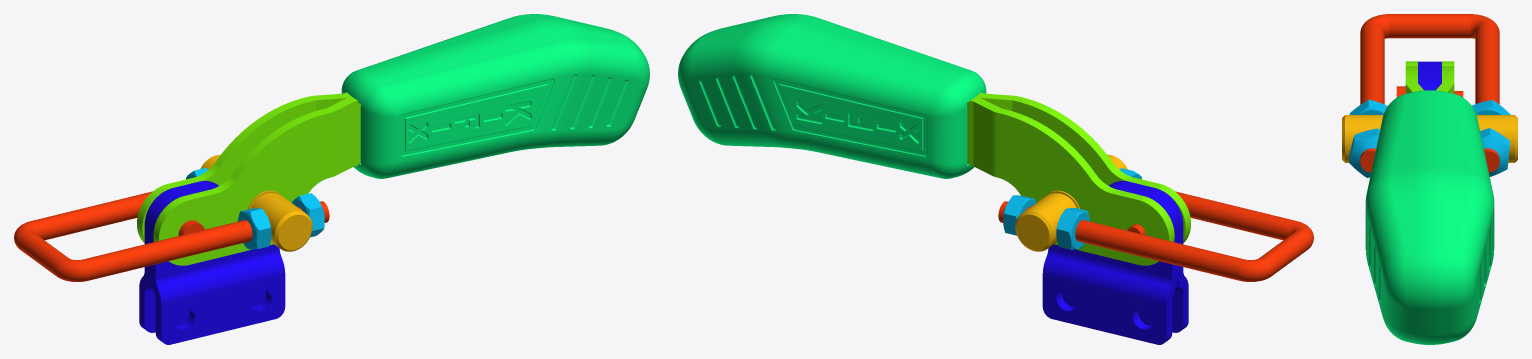
File: Peca.fbx
3 views of the same model, side by side, from view 1: azimuth 30°, elevation 25°; view 2: azimuth 150°, elevation 25°; view 3: azimuth 270°, elevation 25° (orthographic). The views are drawn at different scales.
Visible parts, largest first — view 1: 07.60005_12_high, 01.10079_Esquerda_4_high, 02.11063_Direita_1_high, 03.20036_7_high, 01.10079_Direita_3_high, 16.20052_6_high, 02.11063_Esquerda_2_high, 11.50007_8_high, 11.50022_9_high; view 2: 07.60005_12_high, 01.10079_Direita_3_high, 02.11063_Esquerda_2_high, 03.20036_7_high, 01.10079_Esquerda_4_high, 16.20052_6_high, 02.11063_Direita_1_high, 11.50007_10_high, 11.50022_11_high; view 3: 07.60005_12_high, 03.20036_7_high, 16.20052_6_high, 11.50022_9_high, 11.50022_11_high, 01.10079_Direita_3_high, 01.10079_Esquerda_4_high, 11.50007_8_high, 11.50007_10_high, 02.11063_Direita_1_high, 02.11063_Esquerda_2_high, 06.50022_13_high.
Part boxes in pixels (x1,y1,x2,y2): 07.60005_12_high: (341, 14, 649, 178); 01.10079_Esquerda_4_high: (153, 97, 360, 265); 02.11063_Direita_1_high: (150, 185, 285, 344); 03.20036_7_high: (14, 191, 329, 281); 01.10079_Direita_3_high: (137, 92, 351, 242); 16.20052_6_high: (200, 154, 312, 251); 02.11063_Esquerda_2_high: (139, 181, 265, 332); 11.50007_8_high: (238, 208, 271, 249); 11.50022_9_high: (292, 193, 324, 237); 07.60005_12_high: (678, 14, 986, 178); 01.10079_Direita_3_high: (966, 97, 1174, 265); 02.11063_Esquerda_2_high: (1042, 185, 1177, 344); 03.20036_7_high: (998, 191, 1313, 281); 01.10079_Esquerda_4_high: (976, 92, 1190, 242); 16.20052_6_high: (1015, 154, 1127, 251); 02.11063_Direita_1_high: (1062, 181, 1188, 332); 11.50007_10_high: (1056, 208, 1089, 249); 11.50022_11_high: (1003, 195, 1035, 235); 07.60005_12_high: (1365, 90, 1494, 344); 03.20036_7_high: (1360, 14, 1499, 172); 16.20052_6_high: (1342, 115, 1517, 162); 11.50022_9_high: (1349, 128, 1379, 177); 11.50022_11_high: (1480, 128, 1509, 176); 01.10079_Direita_3_high: (1436, 61, 1454, 93); 01.10079_Esquerda_4_high: (1405, 61, 1423, 93); 11.50007_8_high: (1349, 99, 1387, 114); 11.50007_10_high: (1472, 100, 1510, 114); 02.11063_Direita_1_high: (1418, 61, 1429, 90); 02.11063_Esquerda_2_high: (1430, 61, 1441, 90); 06.50022_13_high: (1396, 86, 1463, 97).
Bounding box in the file's own units: 5 × 1.73 × 1.14.
